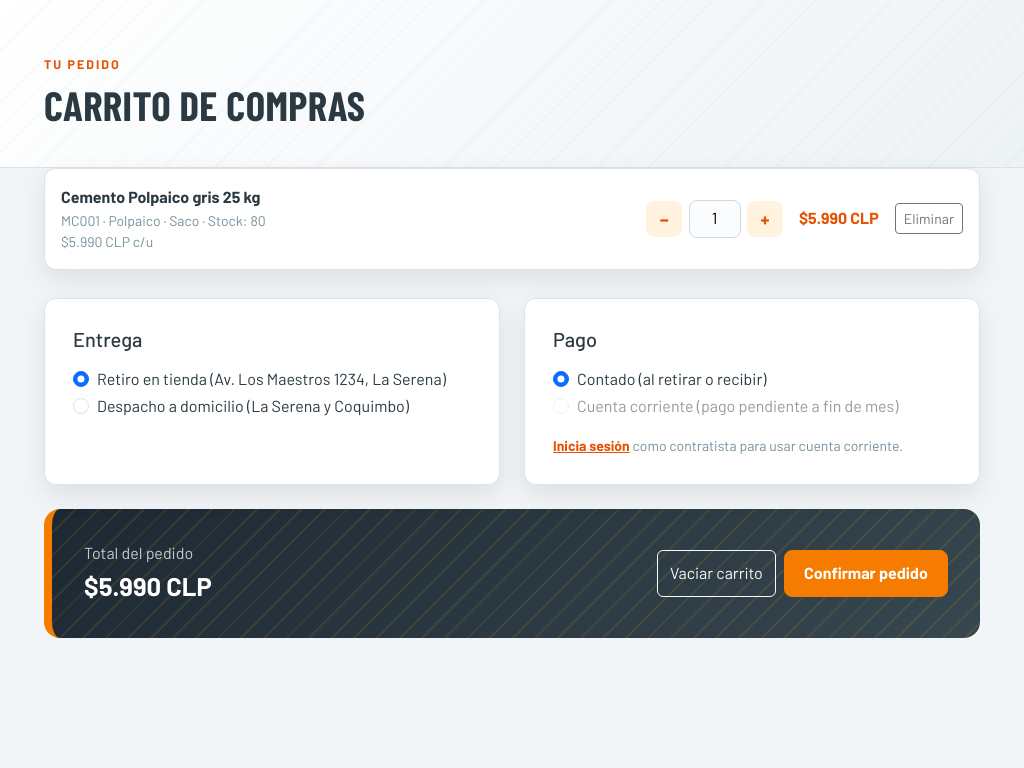
it: Página del Carrito › elimina un producto del carrito
The width and height of the screenshot is (1024, 768).
Step 1. Click the button "Eliminar" → (929, 219), box [895,203,963,234]
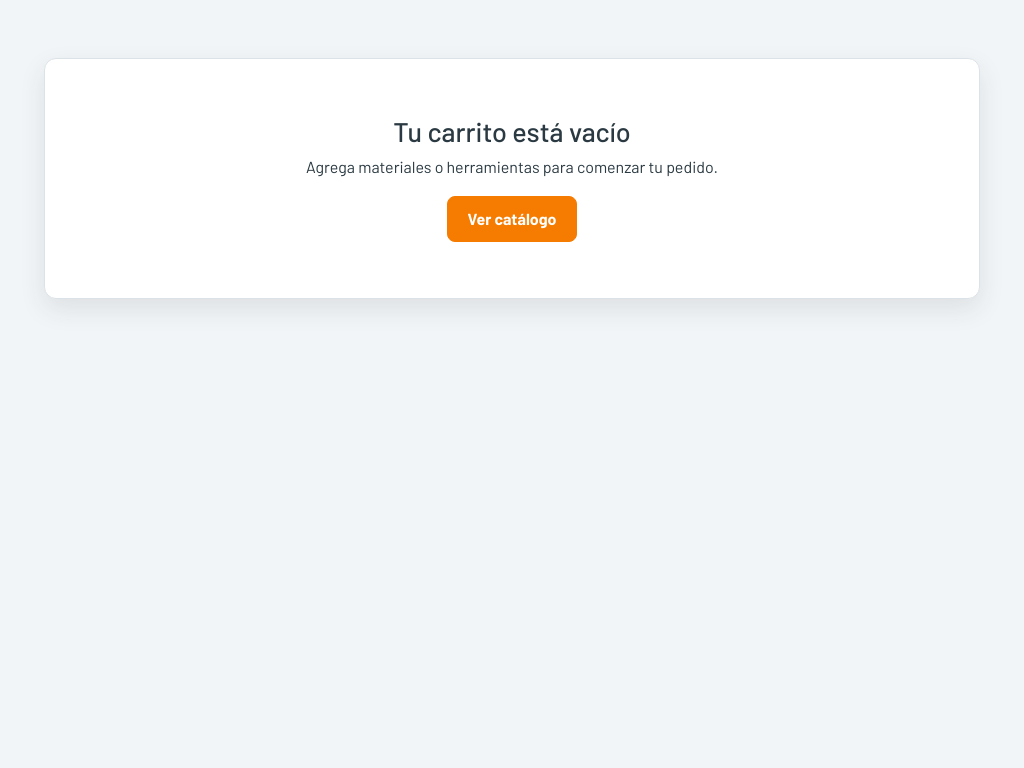
Expected: the heading "Tu carrito está vacío" is shown, [393,115,631,147]
